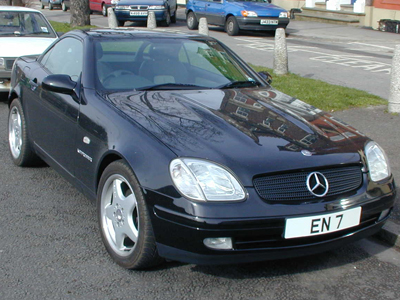licencePlate: (285, 205, 370, 243)
